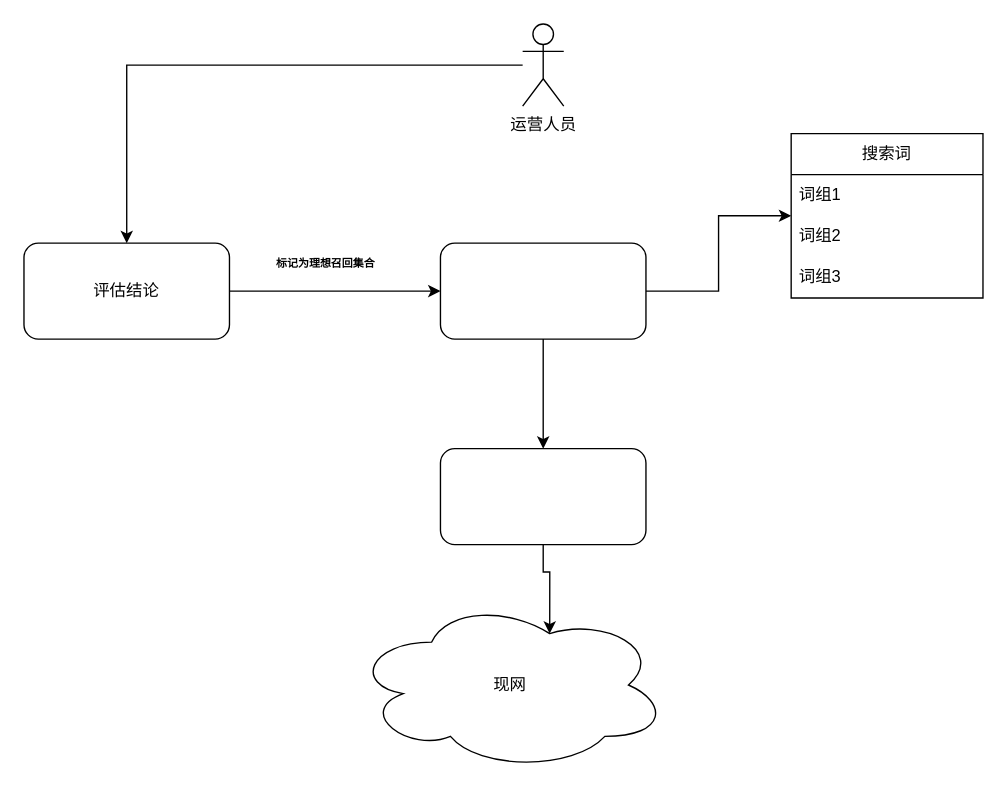
Image size: 1007x795. Some labels were removed from this diagram. The centre of each missing label's shape, as x and y in pixels:
拨测系统: point 542,496
理想召回集合: point 542,290
